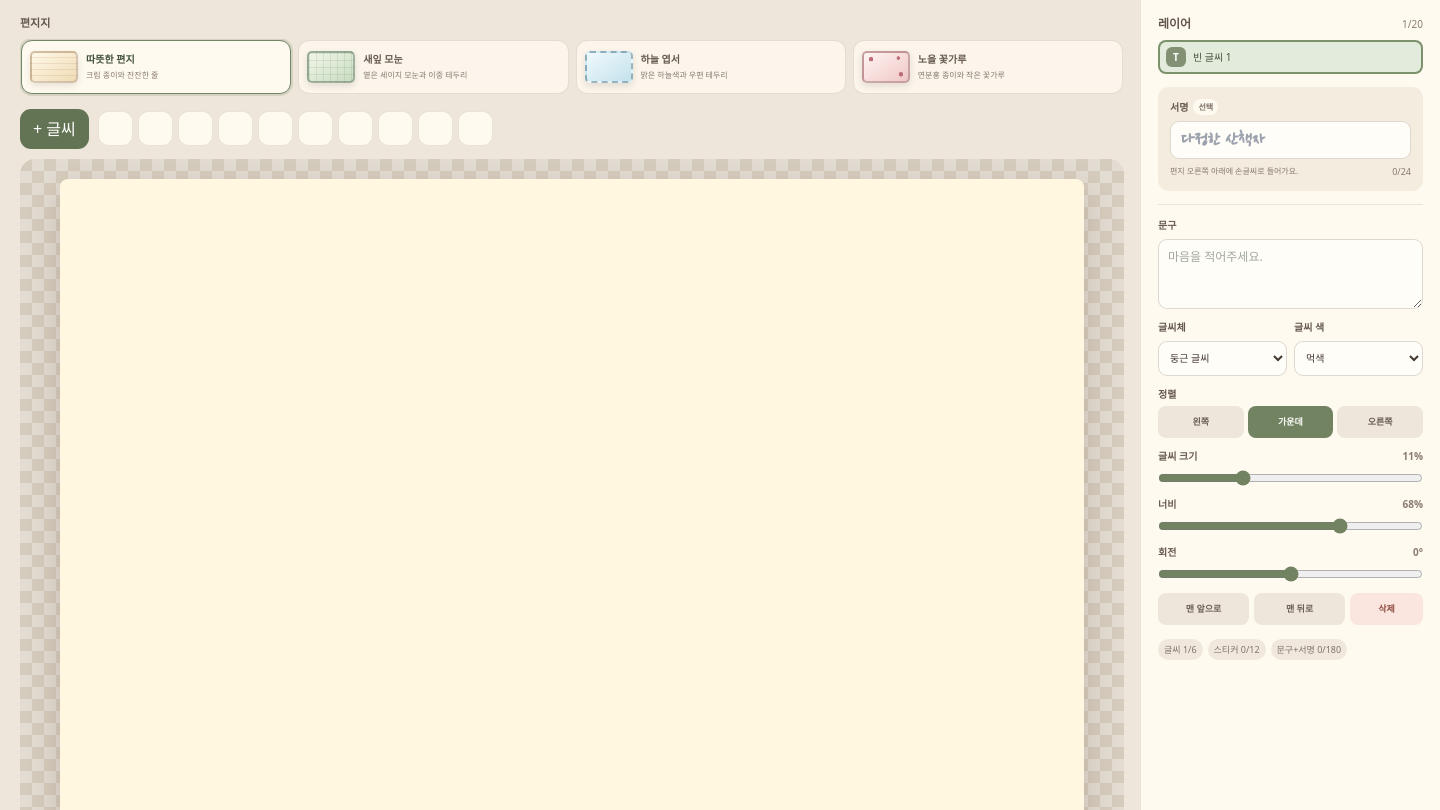
Scenario: guestbook letter editor › adds and edits multiple text/sticker layers through DOM controls
Type "첫 번째 인사" into the text box with placeholder "마음을 적어주세요." at point(1290, 274), box [1158,238,1423,309]
Click the button "+ 글씨" at point(54, 128), box [20,108,89,148]
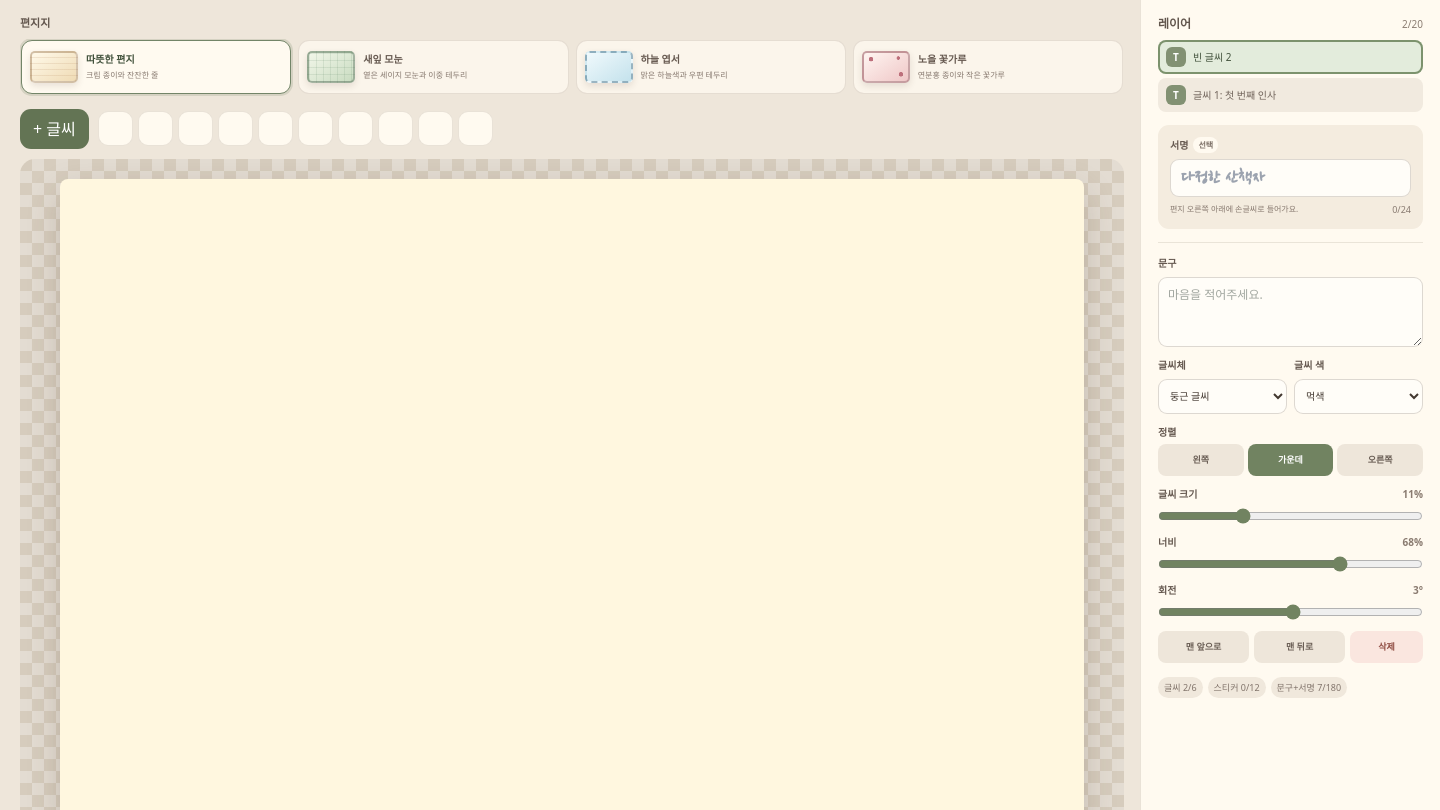
Now the number of buttons "T 빈 글씨 2" is 1, box [1158,40,1423,74]
Type "두 번째 마음" into the text box with placeholder "마음을 적어주세요." at point(1290, 312), box [1158,276,1423,347]
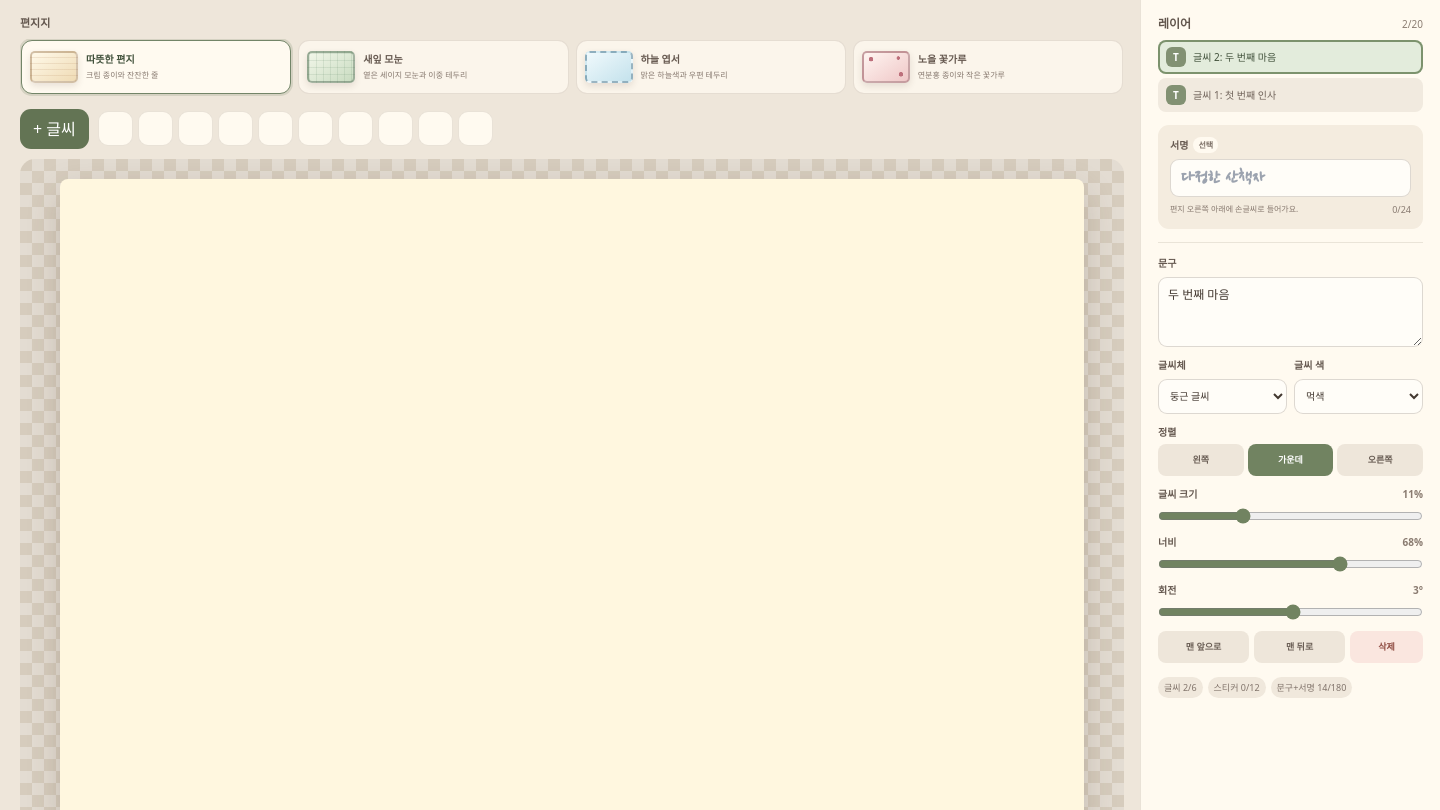
Click the button named "하트 스티커 추가" at point(115, 128), box [98,111,133,146]
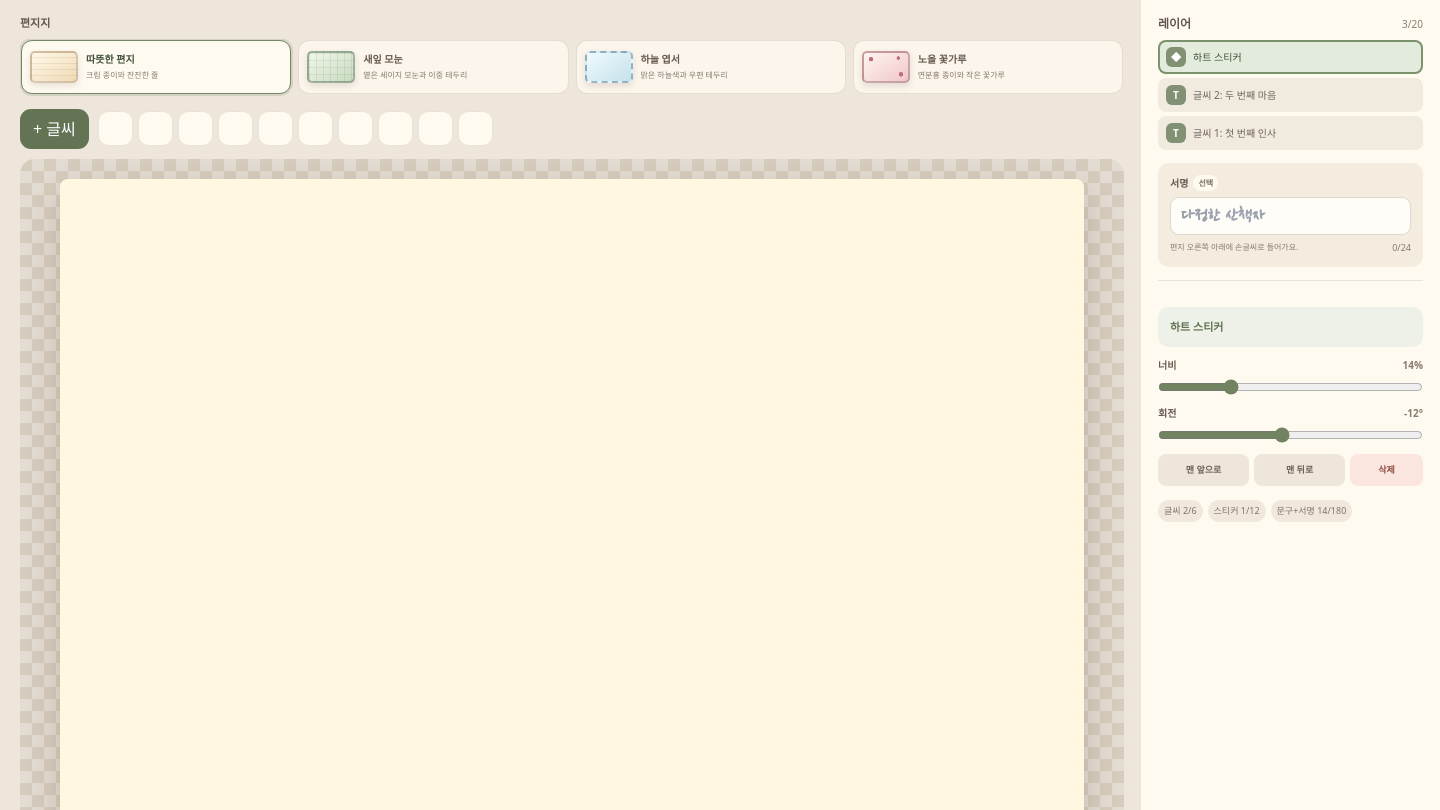
Now the number of buttons "◆ 하트 스티커" is 2, box [1158,40,1423,74]; [1158,306,1423,347]
Set the slider named "요소 회전" to "27" at point(1309, 435), box [1158,427,1423,443]
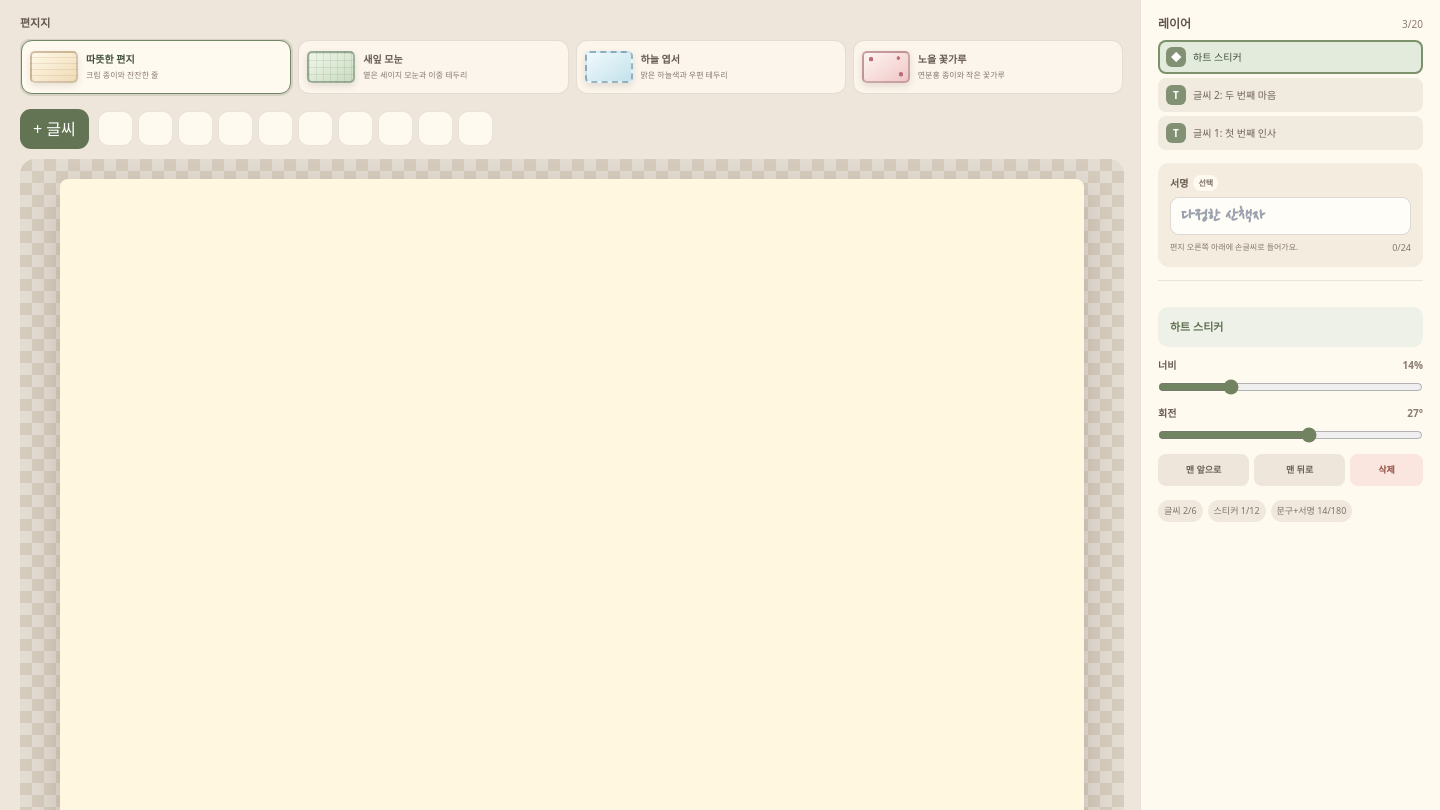
Now the text "27°" is shown, box [1407,406,1423,421]
Click the button "맨 뒤로" at point(1300, 470), box [1254,454,1345,486]
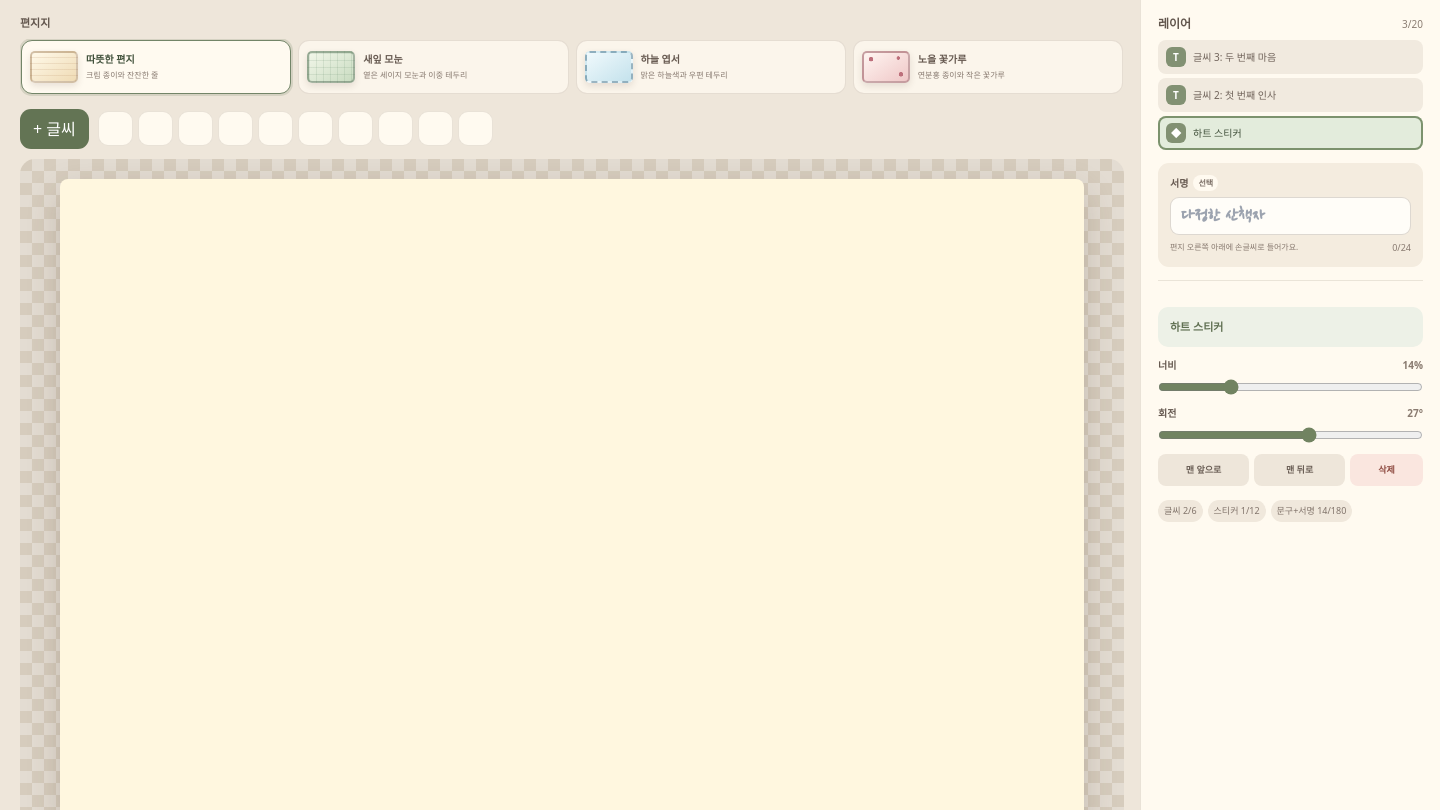
Click the button "삭제" at point(1386, 470), box [1350,454,1423,486]
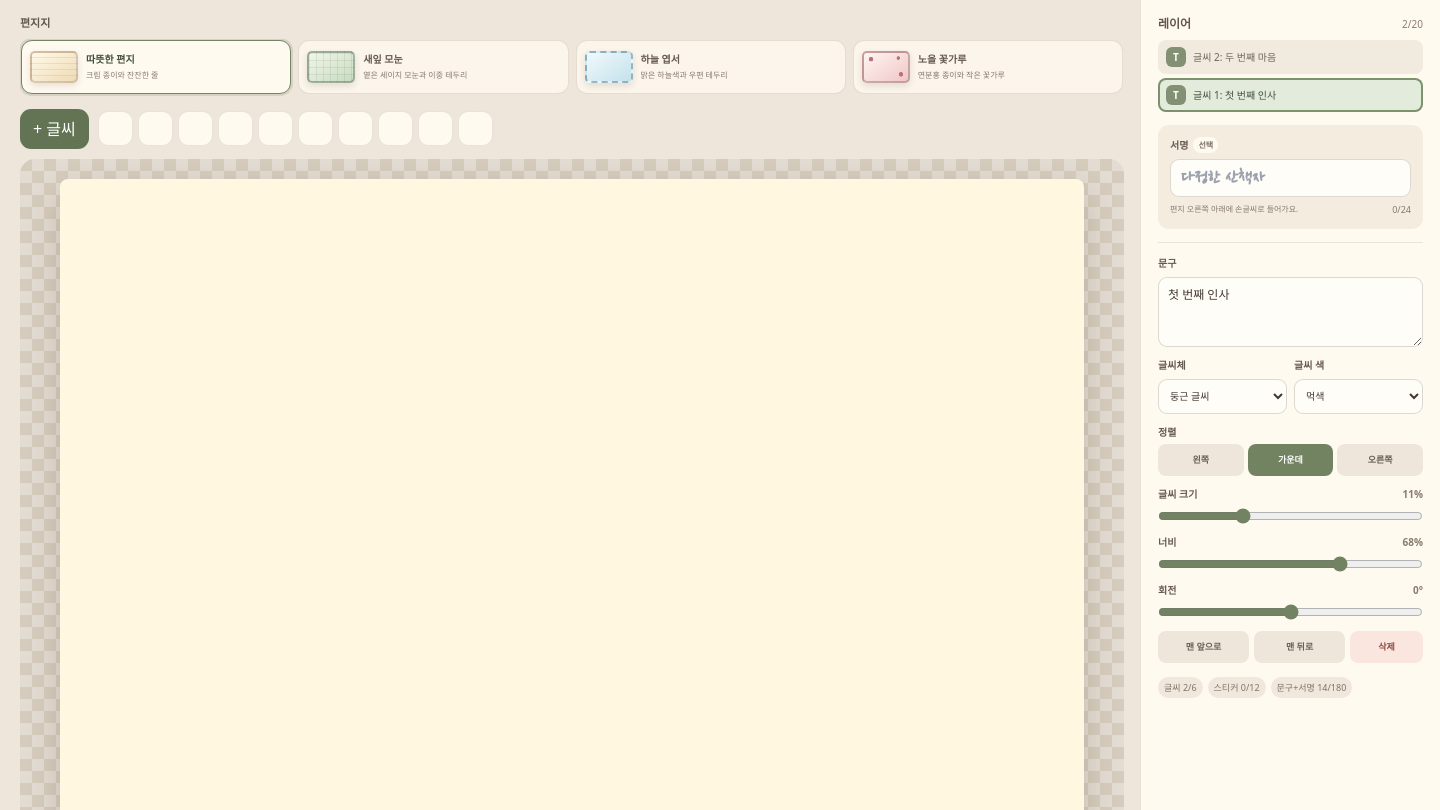
Now no buttons "하트 스티커" are shown
